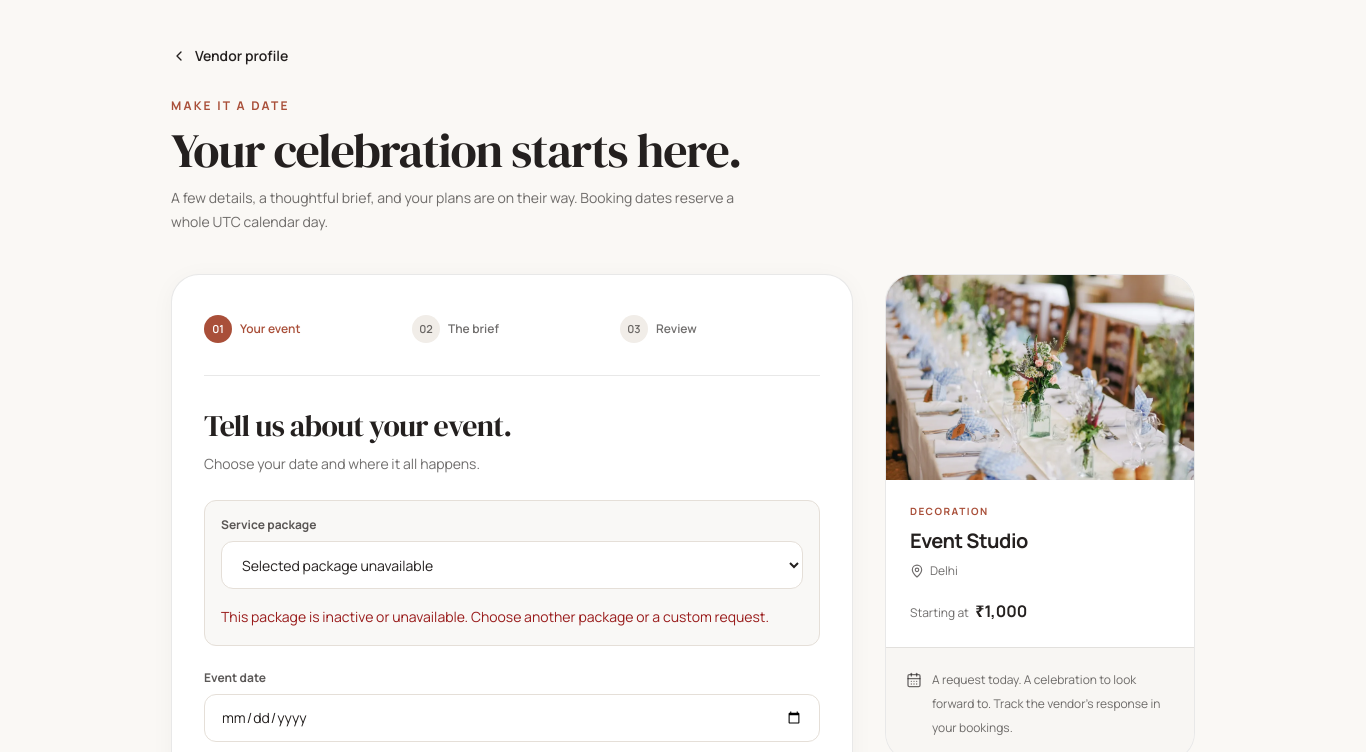
Test case: package selection during booking › blocks inactive or removed selections while allowing the custom request fallback
The width and height of the screenshot is (1366, 752).
Expected: the text "This package is inactive or unavailable" is shown, [221,607,769,626]
Select "Custom booking request" in the dropdown labelled "Service package" at (512, 565), box [221,541,803,589]
(page scrolled)
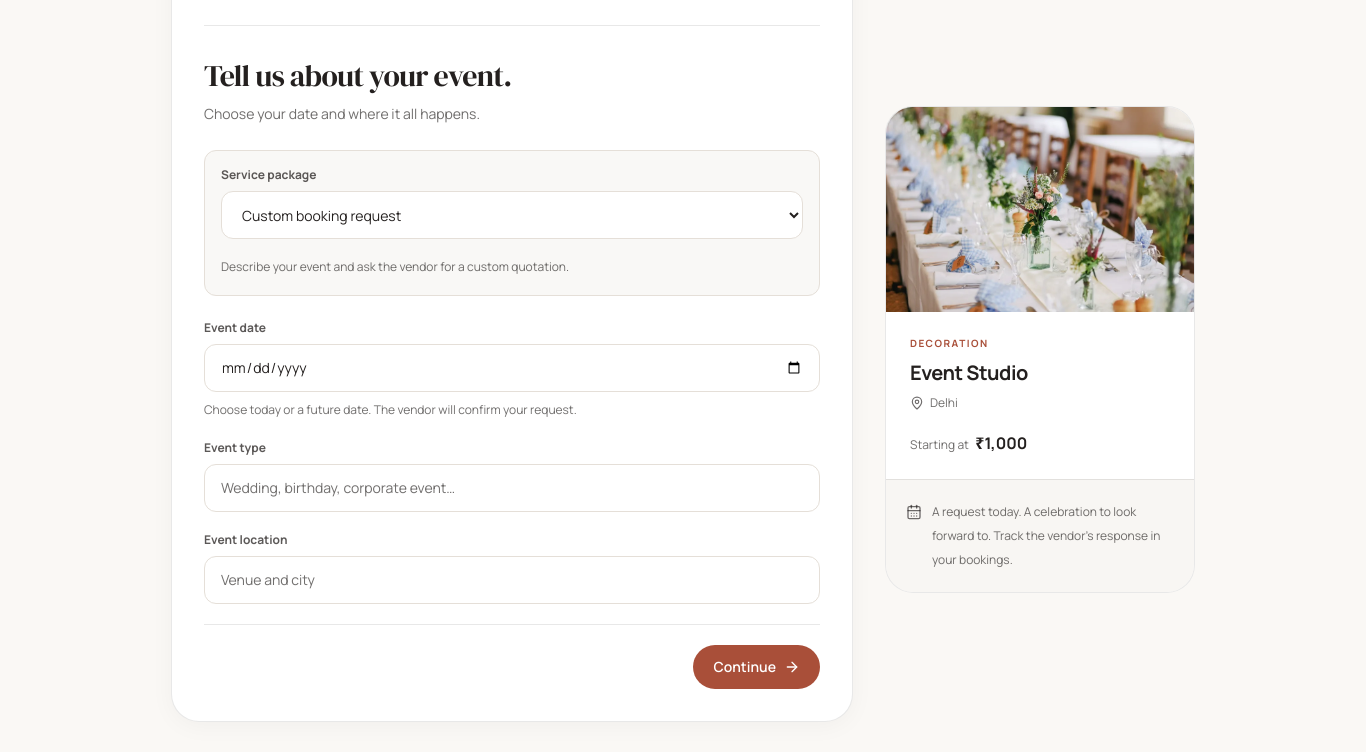
Expected: the button "Continue" is enabled, [693,645,820,689]
